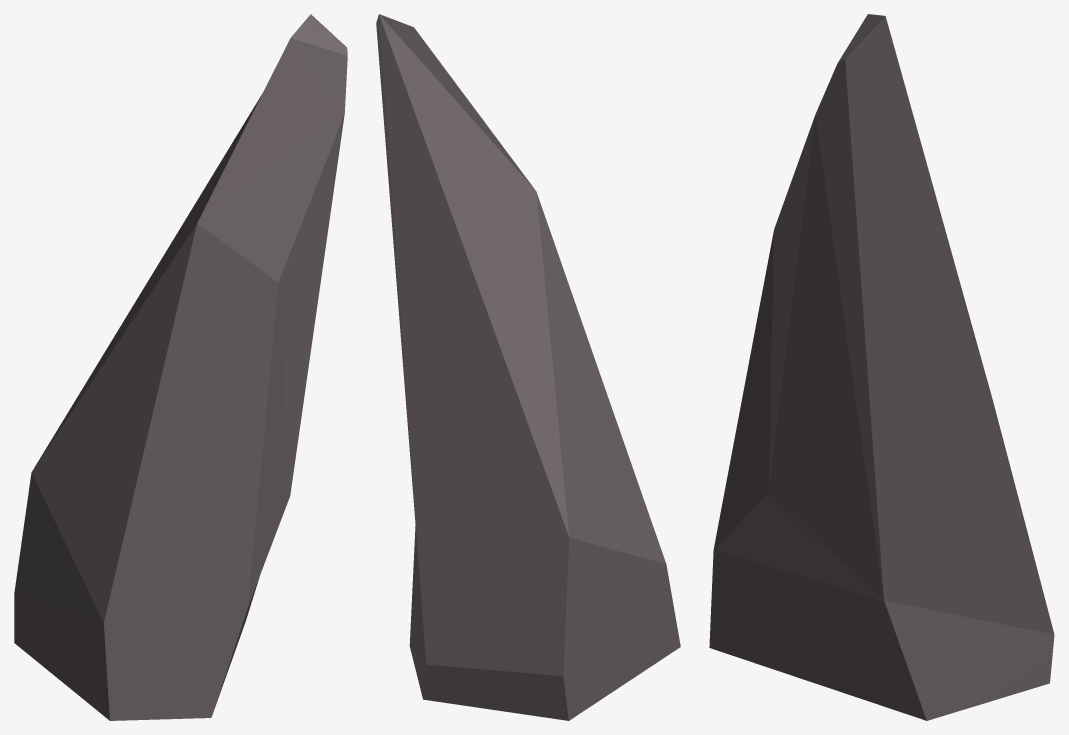
The model's file is Rock_Sharp_m_12.fbx.
The picture shows the model from 3 angles, left to right: view 1: azimuth 30°, elevation 25°; view 2: azimuth 150°, elevation 25°; view 3: azimuth 270°, elevation 25°; orthographic projection. The views are drawn at different scales.
Visible parts, largest first — view 1: Rock_Sharp_m_12; view 2: Rock_Sharp_m_12; view 3: Rock_Sharp_m_12.
Boxes of the visible parts, box(x1,y1,x2,y2) form: Rock_Sharp_m_12: box(14, 14, 347, 720); Rock_Sharp_m_12: box(376, 14, 680, 720); Rock_Sharp_m_12: box(709, 14, 1054, 720).
Bounding box in the file's own units: 82.43 × 177 × 75.41.
